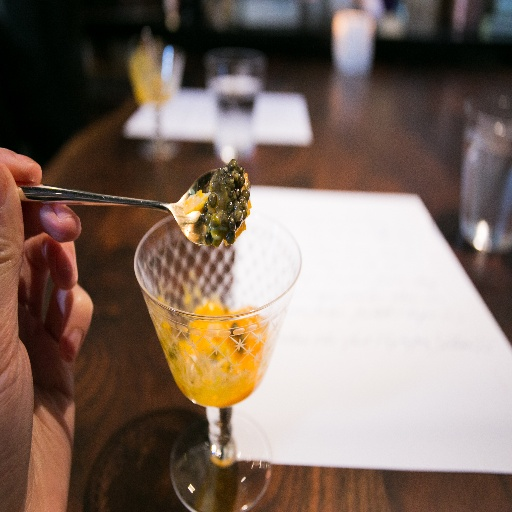hand: (0, 147, 93, 511)
